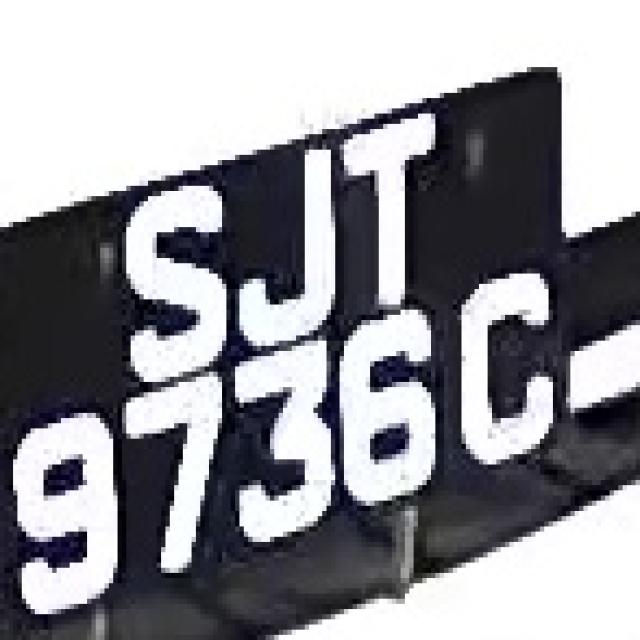3: (235, 335, 344, 542)
6: (335, 320, 440, 526)
7: (126, 392, 231, 594)
9: (9, 413, 139, 624)
C: (452, 278, 562, 501)
J: (240, 150, 362, 340)
S: (100, 191, 235, 387)
T: (336, 124, 436, 310)
